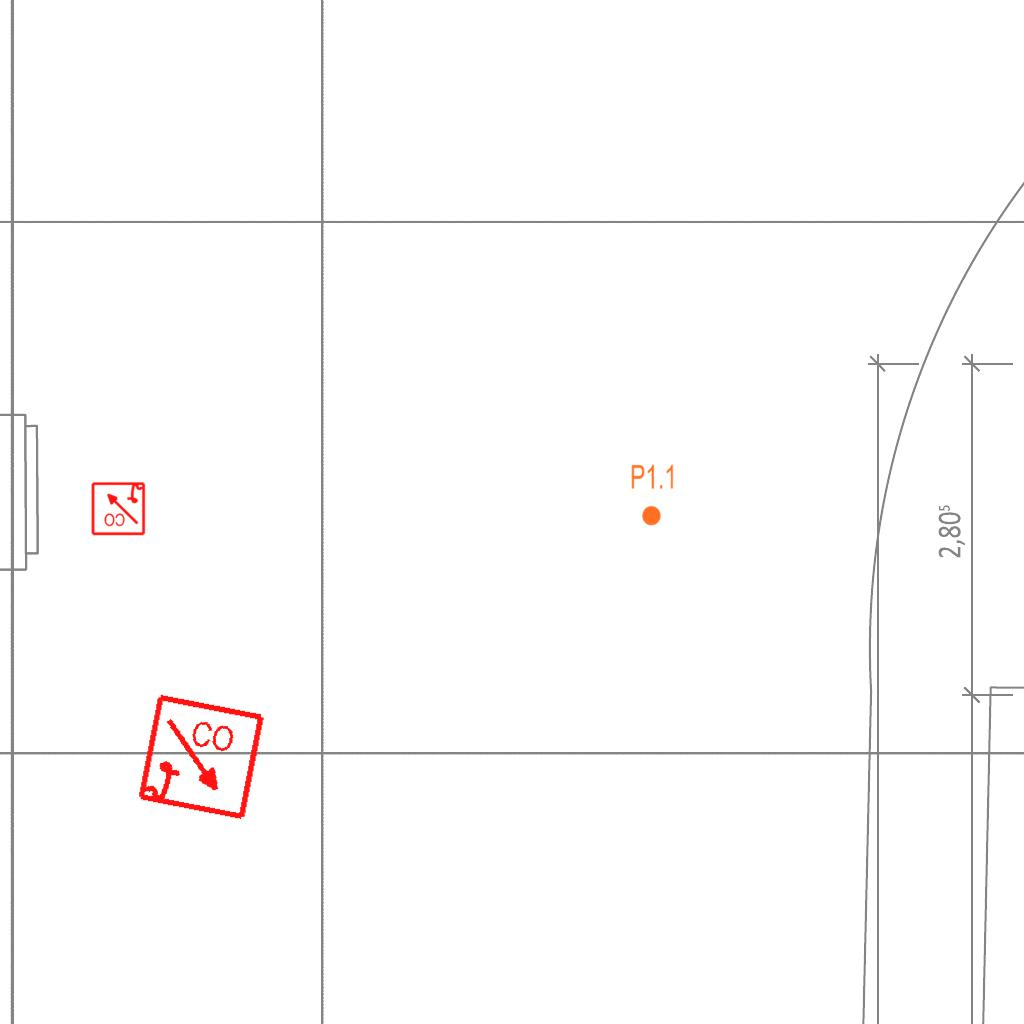Downlight_LED_Einbauleuchten_Flur: (630, 463, 676, 527)
ROA_Rauchmelder_optisch_mit_Signalgeber_(Sockelsirene): (135, 692, 268, 825), (90, 480, 146, 536)
